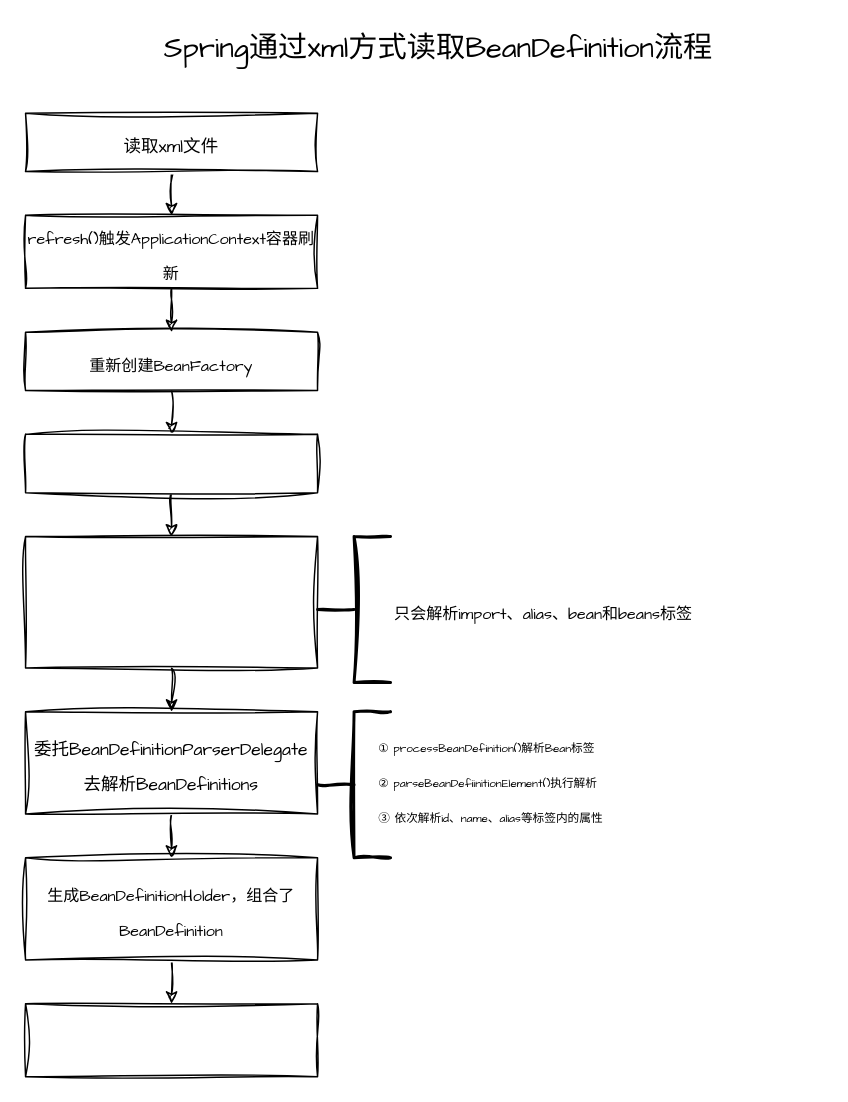
Image size: 848x1102. Some labels were removed from this diagram. Each missing label, with the centre of its shape:
BeanFactory.loadBeanDefinition(): (x=171, y=463)
委托AbstractBeanDefinitionsReader和BeanDefinitionDocumentReader 去解析xml文件: (x=171, y=601)
通过BeanDefinitionRegistry向容器注册BeanDefinition: (x=171, y=1039)
